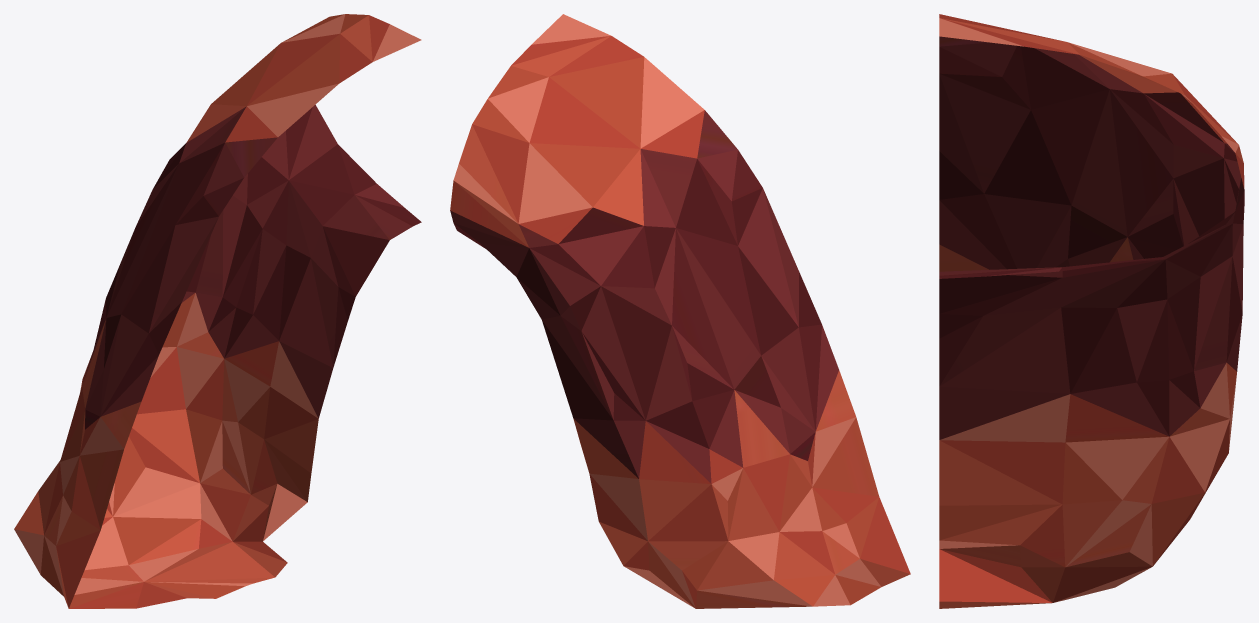
Rendered from Tunnel_Corner_Piece_L_Back.fbx.
3 views of the same model, side by side, from view 1: azimuth 30°, elevation 25°; view 2: azimuth 150°, elevation 25°; view 3: azimuth 270°, elevation 25° (orthographic). The views are drawn at different scales.
Visible parts, largest first — view 1: polySurface21; view 2: polySurface21; view 3: polySurface21.
Boxes of the visible parts, box(x1,y1,x2,y2) form: polySurface21: box(14, 14, 421, 608); polySurface21: box(450, 14, 910, 608); polySurface21: box(939, 14, 1244, 608).
Size of the model in its own units: 617 by 848 by 347.
